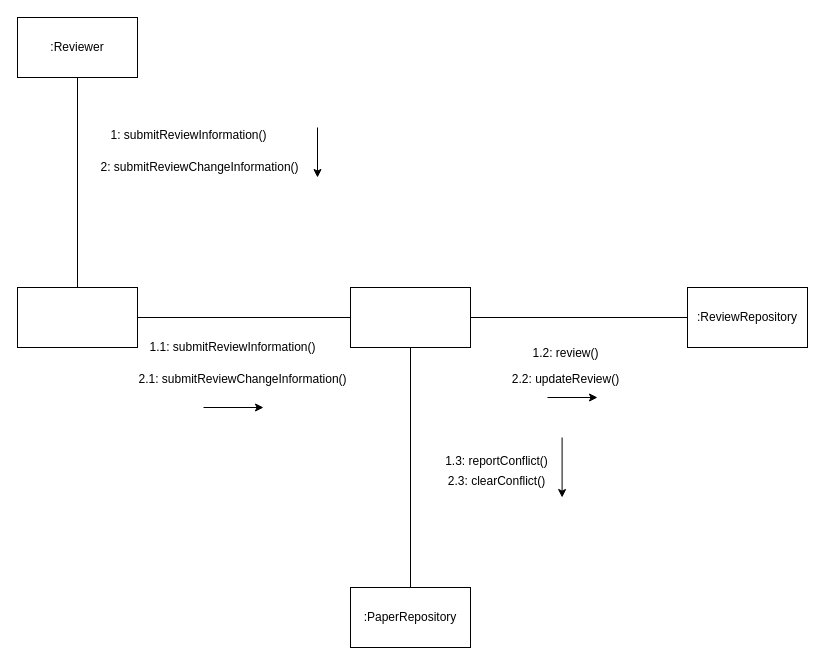
Some shapes in this 825 by 665 pixel diagram are drawn without their labels. Each missing label, with the box of its shape:
:ReviewController: (350, 286, 470, 348)
:UI: (16, 286, 138, 348)
